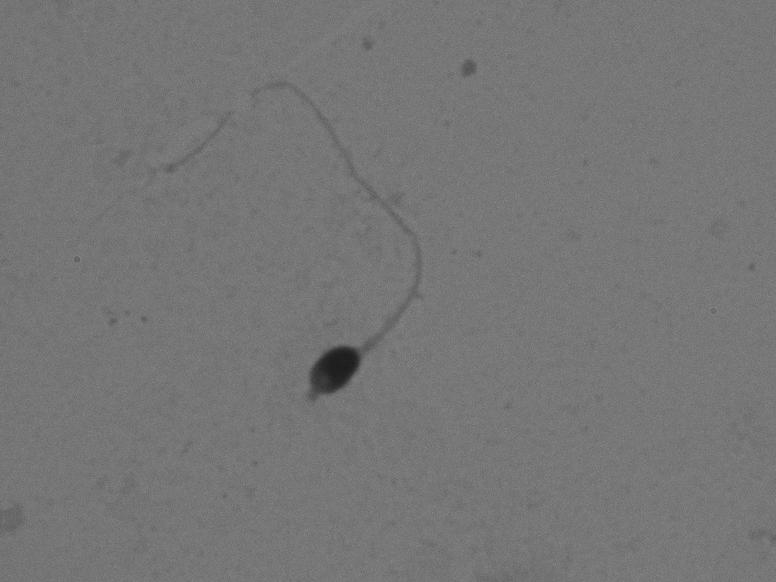Abnormal: (63, 52, 508, 466)
